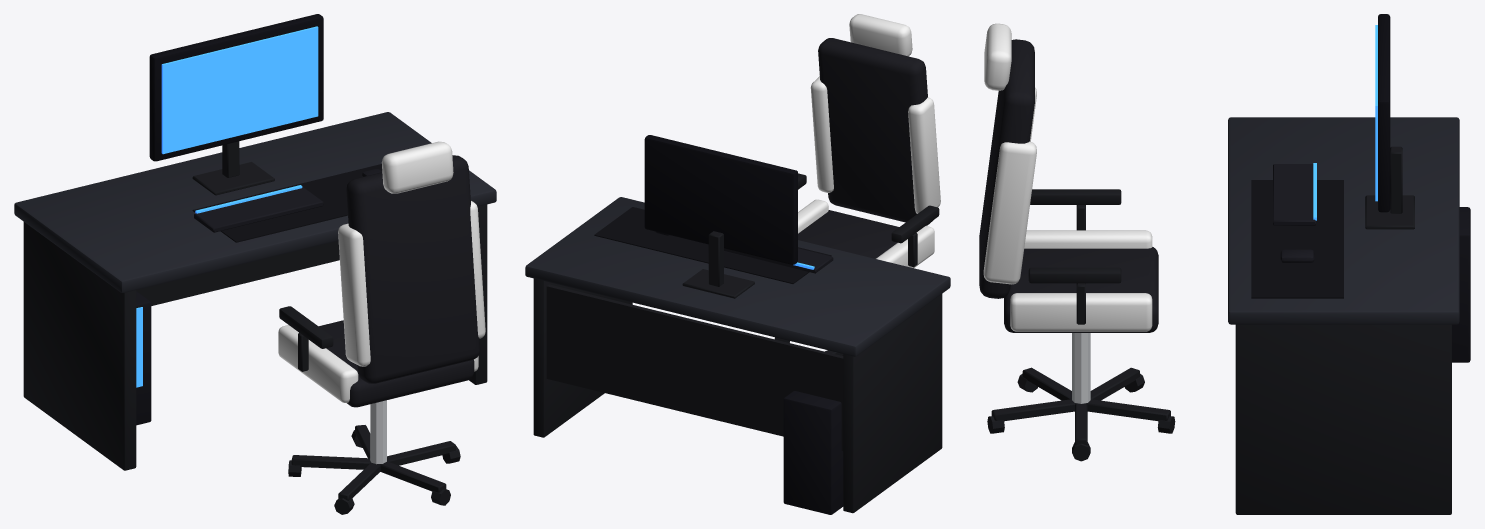
Rendered from pc_station.glb.
3 views of the same model, side by side, from view 1: azimuth 30°, elevation 25°; view 2: azimuth 150°, elevation 25°; view 3: azimuth 270°, elevation 25° (orthographic). The views are drawn at different scales.
Parts seen in each view (by area): view 1: arm, top, back, screen, head, panel, pad, keys, tower, post, rgbbar; view 2: arm, top, back, panel, head, tower, pad, keys; view 3: arm, top, head, back, pad, keys, panel, tower, post.
Part boxes in pixels (box(x1,y1,x2,y2)): arm: box(23, 141, 487, 514); top: box(14, 112, 496, 292); back: box(319, 155, 480, 407); screen: box(161, 26, 318, 154); head: box(278, 141, 485, 402); panel: box(149, 14, 323, 161); pad: box(192, 164, 382, 242); keys: box(194, 169, 382, 232); tower: box(136, 291, 151, 425); post: box(370, 400, 386, 464); rgbbar: box(136, 185, 302, 387); arm: box(533, 173, 942, 513); top: box(525, 197, 950, 356); back: box(798, 38, 933, 258); panel: box(644, 135, 797, 264); head: box(798, 14, 940, 268); tower: box(783, 391, 843, 514); pad: box(594, 207, 831, 283); keys: box(656, 231, 833, 273); arm: box(987, 146, 1451, 514); top: box(1228, 117, 1459, 324); head: box(983, 23, 1152, 331); back: box(979, 39, 1158, 332); pad: box(1251, 180, 1343, 298); keys: box(1273, 164, 1315, 262); panel: box(1378, 14, 1390, 212); tower: box(1452, 207, 1470, 362); post: box(1072, 333, 1090, 403).
Size of the model in its own units: 1.5 by 1.37 by 1.59.
